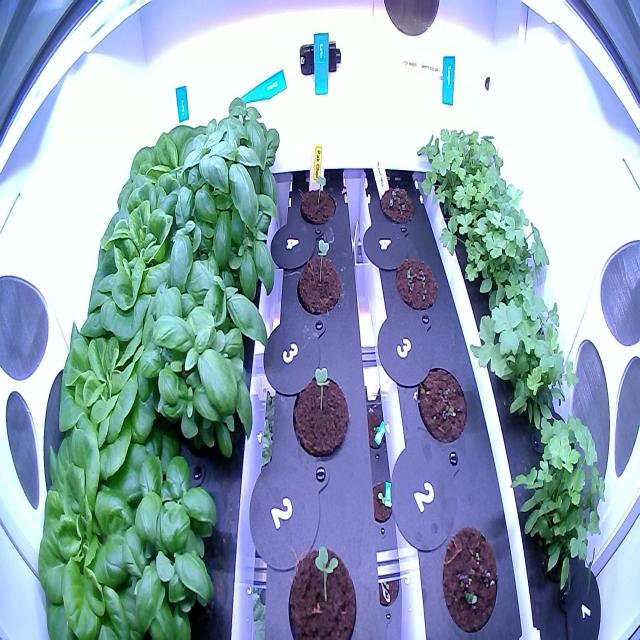Ready: (27, 422, 153, 640), (52, 304, 174, 488), (76, 173, 191, 336), (107, 118, 216, 242)
germination: (282, 532, 360, 639), (436, 518, 499, 632), (286, 360, 352, 460), (294, 234, 346, 320), (390, 250, 442, 318), (376, 172, 421, 230), (296, 169, 339, 227)
pod: (413, 359, 472, 456)
